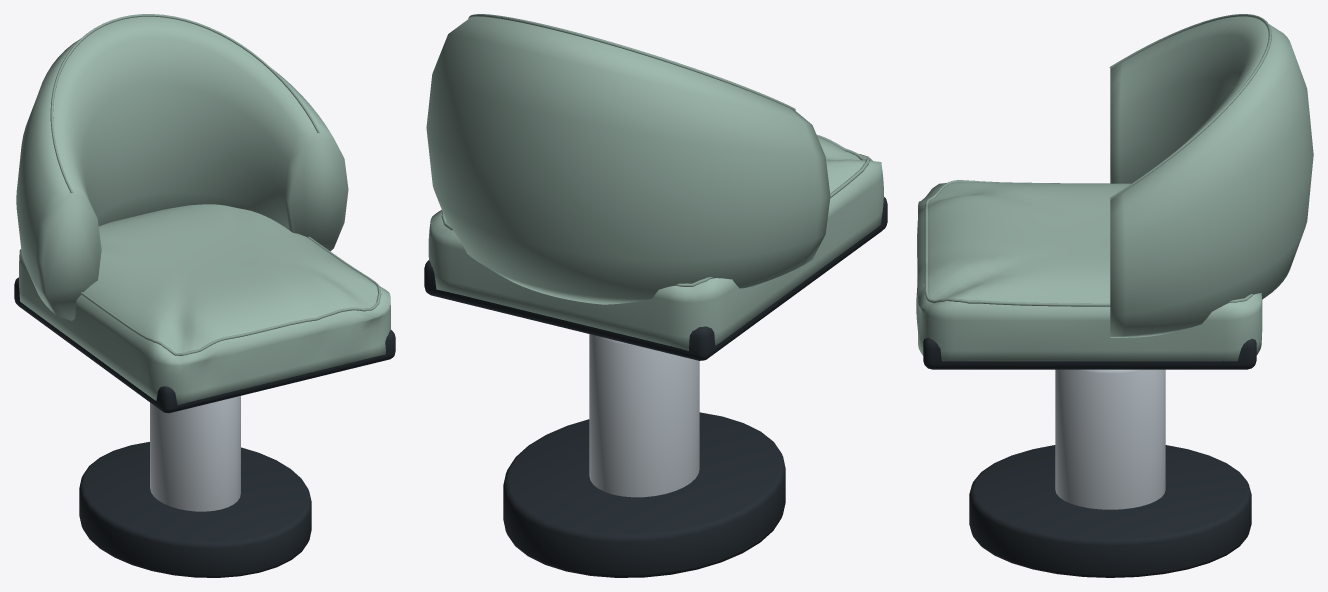
File: upholstered-dining-chair.glb
3 renders of one model, left to right at view 1: azimuth 30°, elevation 25°; view 2: azimuth 150°, elevation 25°; view 3: azimuth 270°, elevation 25°, orthographic. The views are drawn at different scales.
Parts seen in each view (by area): view 1: catalog_surface_RealismUV, catalog_surface_UVMap; view 2: catalog_surface_RealismUV, catalog_surface_UVMap; view 3: catalog_surface_RealismUV, catalog_surface_UVMap.
Part boxes in pixels (left/top/right/bottom): catalog_surface_RealismUV: left=16, top=14, right=390, bottom=511; catalog_surface_UVMap: left=14, top=277, right=395, bottom=577; catalog_surface_RealismUV: left=426, top=14, right=883, bottom=497; catalog_surface_UVMap: left=424, top=197, right=887, bottom=577; catalog_surface_RealismUV: left=916, top=14, right=1313, bottom=509; catalog_surface_UVMap: left=923, top=338, right=1256, bottom=577.
Bounding box in the file's own units: 0.56 × 0.8 × 0.58.
